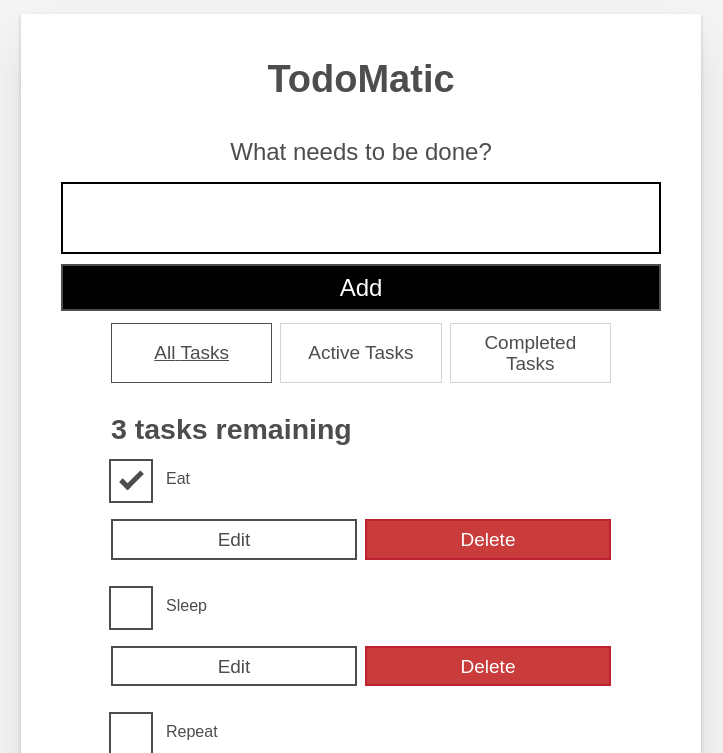
Scenario: editing a task › renames the task and returns focus to its Edit button
This screenshot has width=723, height=753.
Click the button named "Edit Sleep".
click(234, 666)  # box x1=111 y1=646 x2=357 y2=686
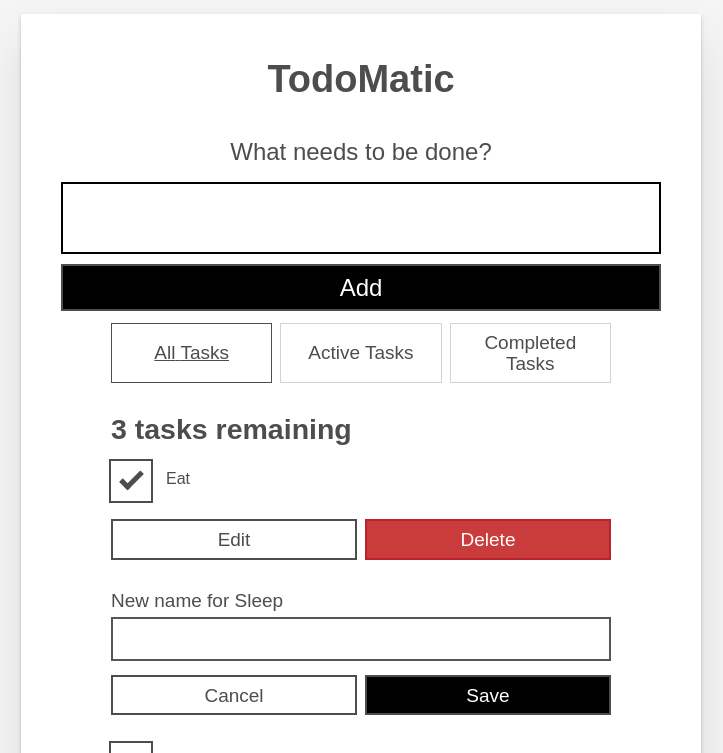
Type "Nap" into the field labelled "New name for Sleep".
click(361, 639); type("Nap")  # box x1=111 y1=617 x2=611 y2=661
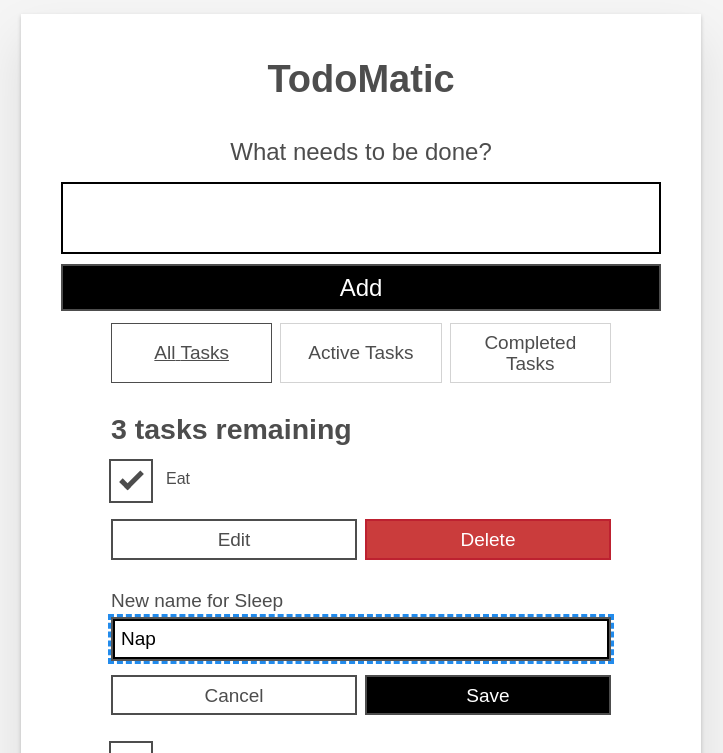
Click the button named "Save new name for Sleep".
click(488, 695)  # box x1=365 y1=675 x2=611 y2=715
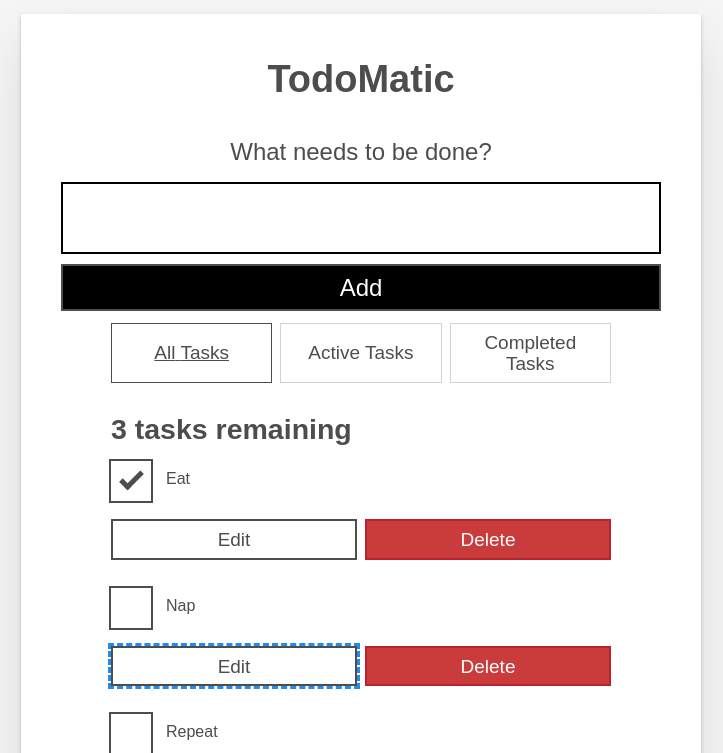
Expected: the checkbox labelled "Nap" is shown, x1=151 y1=588 x2=210 y2=621
Expected: the label "Sleep" is gone
